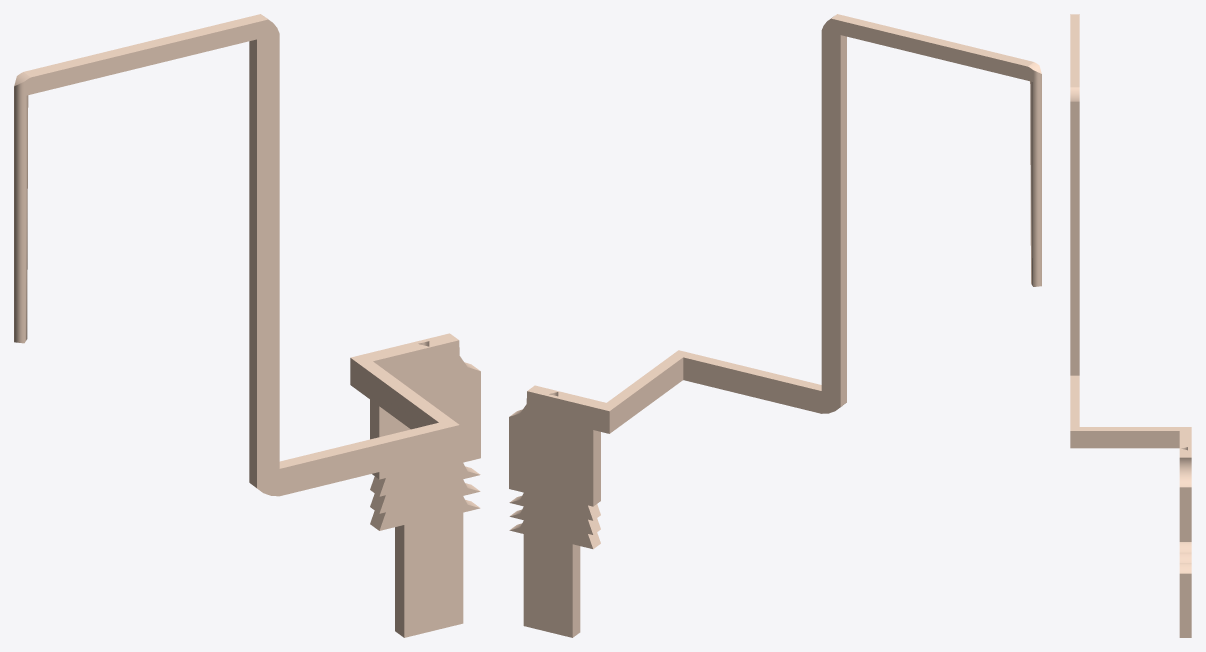
File: Cremaillere Quarts - plaque.obj
3 views of the same model, side by side, from view 1: azimuth 30°, elevation 25°; view 2: azimuth 150°, elevation 25°; view 3: azimuth 270°, elevation 25° (orthographic). The views are drawn at different scales.
Parts seen in each view (by area): view 1: Face_2, Face_8, Face_7, Face_3, Face_12, Face_31, Face_4, Face_21; view 2: Face_13, Face_6, Face_3, Face_7, Face_12, Face_31, Face_4, Face_21; view 3: Face_5, Face_32, Face_12, Face_22, Face_4, Face_11, Face_30.
Boxes of the visible parts, x1,y1,x2,y2 form: Face_2: (24, 19, 459, 496); Face_8: (373, 340, 480, 637); Face_7: (14, 82, 28, 343); Face_3: (249, 39, 256, 487); Face_12: (279, 333, 459, 468); Face_31: (350, 358, 438, 429); Face_4: (24, 14, 267, 77); Face_21: (395, 525, 404, 637); Face_13: (509, 391, 609, 637); Face_6: (683, 18, 1033, 413); Face_3: (840, 35, 846, 406); Face_7: (1030, 70, 1041, 286); Face_12: (527, 350, 821, 411); Face_31: (609, 357, 683, 433); Face_4: (831, 14, 1033, 66); Face_21: (572, 544, 580, 637); Face_5: (1070, 101, 1079, 375); Face_32: (1070, 431, 1179, 448); Face_12: (1070, 375, 1191, 457); Face_22: (1179, 573, 1191, 637); Face_4: (1070, 14, 1079, 87); Face_11: (1179, 487, 1191, 541); Face_30: (1179, 457, 1191, 487).
Size of the model in its own units: 0.084 by 0.1075 by 0.0255.
